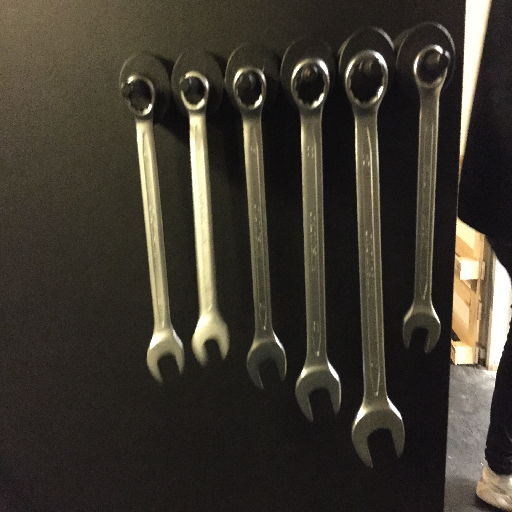bottom: (351, 402, 407, 471), (294, 364, 343, 424), (245, 336, 288, 391), (189, 313, 233, 366), (399, 304, 443, 356), (145, 328, 187, 382)
top: (341, 49, 390, 113), (288, 56, 332, 114), (411, 43, 453, 94), (229, 64, 270, 113), (121, 73, 159, 120), (176, 69, 213, 113)
